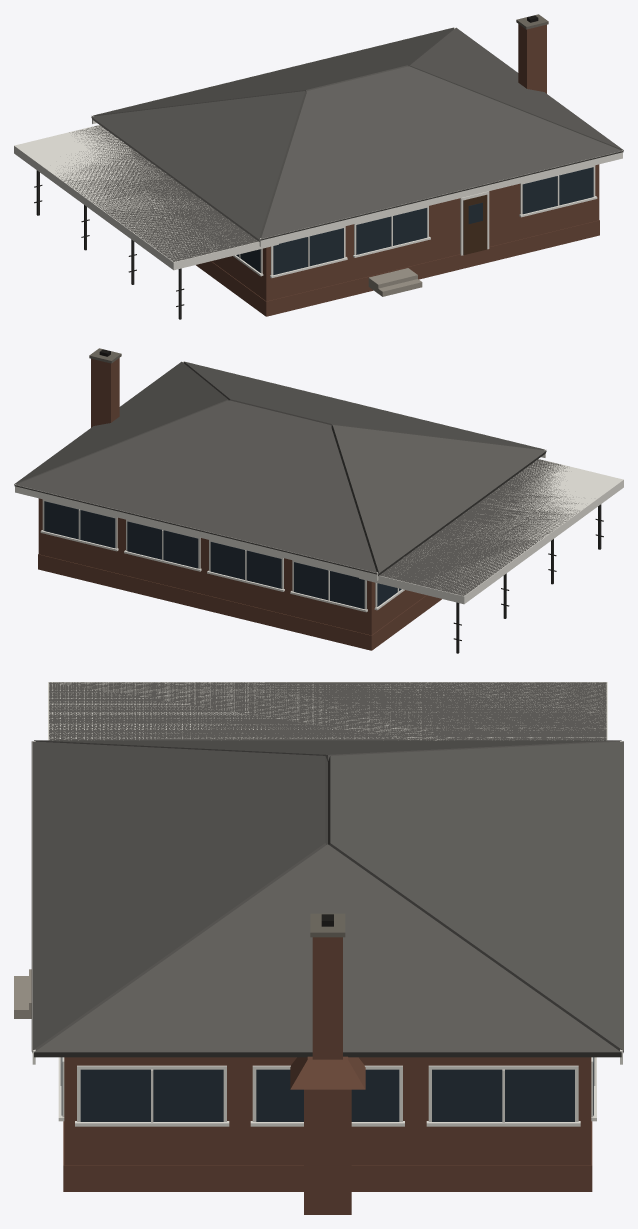
Rendered from brick-ranch-house-0001.glb.
3 views of the same model, one above another, from view 1: azimuth 30°, elevation 25°; view 2: azimuth 150°, elevation 25°; view 3: azimuth 270°, elevation 25° (orthographic). The views are drawn at different scales.
Parts seen in each view (by area): view 1: house_roof, house_trim, house_wall_brick, house_glass, house_foundation, house_chimney, house_door, house_steps, house_iron; view 2: house_roof, house_trim, house_wall_brick, house_glass, house_foundation, house_chimney, house_iron; view 3: house_roof, house_wall_brick, house_glass, house_foundation, house_trim, house_chimney, house_steps, house_chimneycap.
Boxes of the visible parts, x1=… form: house_roof: x1=57, y1=27, x2=623, y2=261; house_trim: x1=14, y1=27, x2=622, y2=278; house_wall_brick: x1=211, y1=164, x2=599, y2=301; house_glass: x1=236, y1=167, x2=593, y2=274; house_foundation: x1=196, y1=220, x2=599, y2=316; house_chimney: x1=518, y1=24, x2=546, y2=93; house_door: x1=463, y1=194, x2=487, y2=254; house_steps: x1=368, y1=268, x2=422, y2=296; house_iron: x1=34, y1=170, x2=184, y2=319; house_roof: x1=14, y1=361, x2=579, y2=595; house_trim: x1=15, y1=361, x2=623, y2=612; house_wall_brick: x1=38, y1=498, x2=426, y2=635; house_glass: x1=44, y1=501, x2=401, y2=608; house_foundation: x1=38, y1=554, x2=441, y2=650; house_chimney: x1=91, y1=358, x2=119, y2=427; house_iron: x1=453, y1=504, x2=603, y2=653; house_roof: x1=31, y1=682, x2=623, y2=1057; house_wall_brick: x1=64, y1=1057, x2=591, y2=1165; house_glass: x1=61, y1=1057, x2=593, y2=1121; house_foundation: x1=63, y1=1121, x2=592, y2=1191; house_trim: x1=32, y1=682, x2=622, y2=1126; house_chimney: x1=290, y1=937, x2=365, y2=1214; house_steps: x1=14, y1=969, x2=31, y2=1018; house_chimneycap: x1=310, y1=913, x2=345, y2=937.
Bounding box in the file's own units: 18.42 × 6.18 × 12.15.
